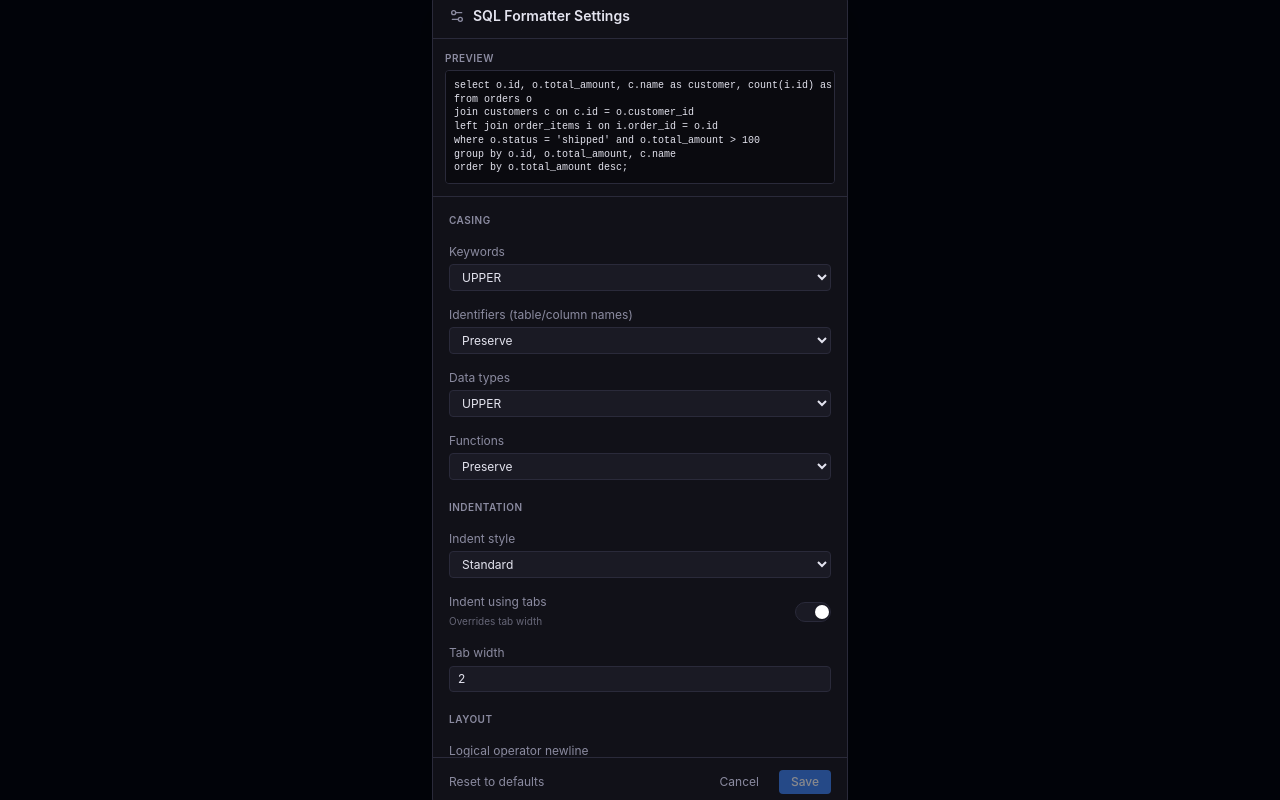
Test case: FormatterSettingsDialog › Save button becomes enabled after a setting changes and shows a dirty dot
The width and height of the screenshot is (1280, 800).
Select "lower" in the dropdown labelled "Keywords" at (640,278), box [449, 264, 831, 291]
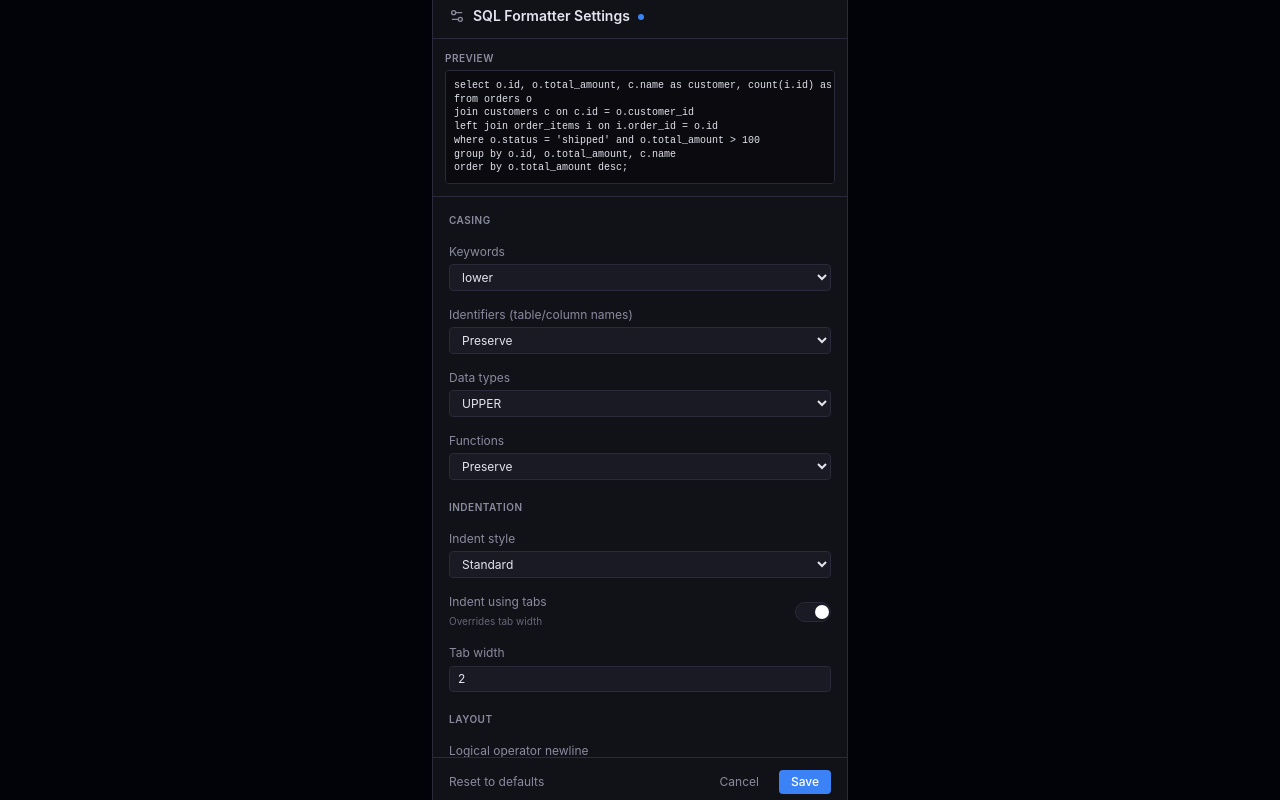
Result: the button "Save" is enabled at [779, 770, 831, 794]
Result: the element named "unsaved changes" is shown at [638, 14, 644, 20]
